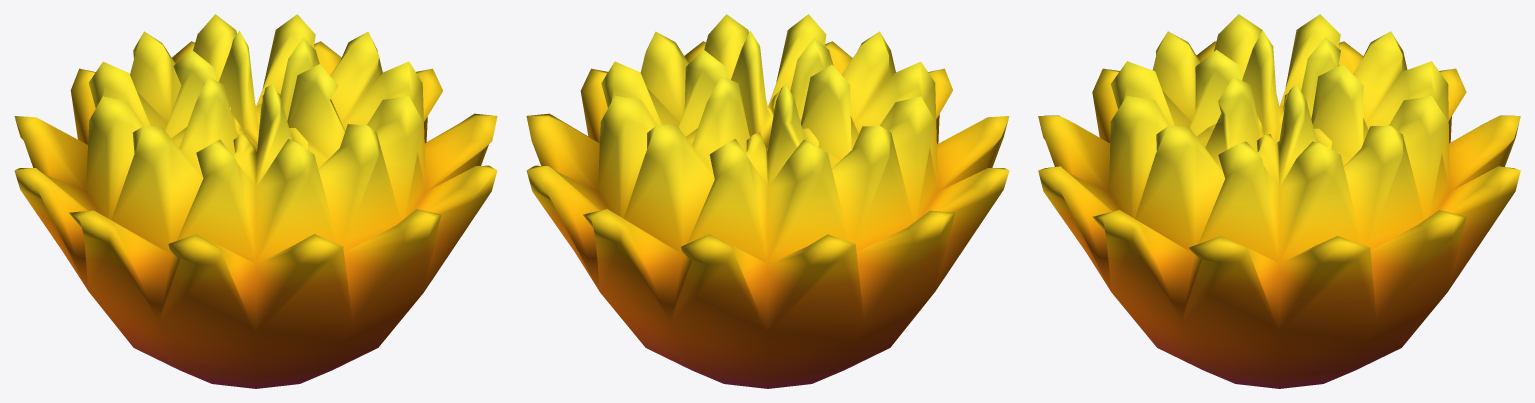
File: anemone_near2.fbx
3 views of the same model, side by side, from view 1: azimuth 30°, elevation 25°; view 2: azimuth 150°, elevation 25°; view 3: azimuth 270°, elevation 25° (orthographic).
Visible parts, largest first — view 1: anemone_near2; view 2: anemone_near2; view 3: anemone_near2.
Part boxes in pixels (left/top/right/bottom): anemone_near2: left=14, top=14, right=497, bottom=388; anemone_near2: left=526, top=14, right=1009, bottom=388; anemone_near2: left=1038, top=14, right=1520, bottom=388.
Bounding box in the file's own units: 0.00346 × 0.00247 × 0.00346.
1 material, 1 textured.
